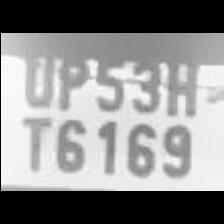1: (88, 113, 120, 178)
3: (127, 48, 161, 113)
5: (88, 50, 126, 110)
6: (49, 113, 87, 176), (120, 116, 156, 180)
9: (157, 118, 193, 180)
H: (161, 48, 199, 119)
P: (51, 42, 87, 110)
T: (13, 110, 51, 174)
U: (17, 36, 53, 106)
